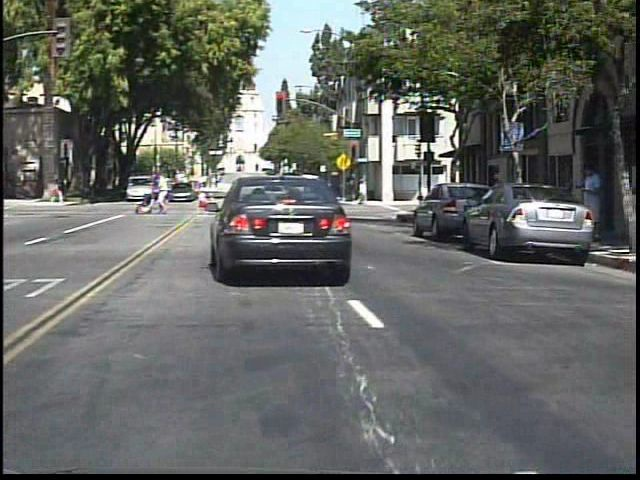person: (580, 158, 611, 247), (160, 172, 181, 218), (51, 174, 67, 207), (102, 174, 103, 205)
